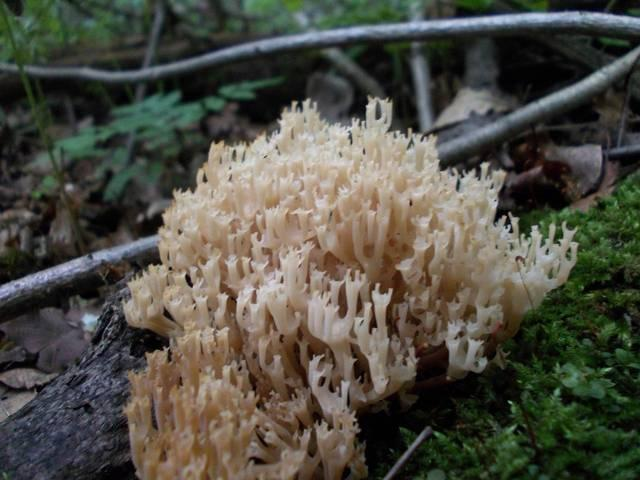edible_mushroom: (120, 93, 580, 479)
